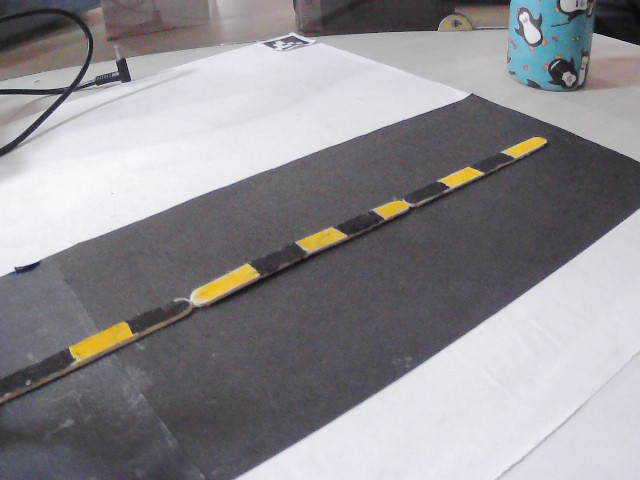aruco_marker: (267, 27, 311, 56)
black_strip: (0, 348, 69, 401), (124, 296, 186, 332), (246, 237, 303, 276), (404, 177, 444, 207), (338, 207, 378, 234), (476, 147, 514, 174)
mixed_lane: (0, 134, 541, 398)
yellow_strip: (62, 317, 128, 362), (188, 261, 253, 303), (298, 219, 348, 252), (502, 132, 542, 156), (437, 161, 475, 186), (372, 194, 407, 216)
